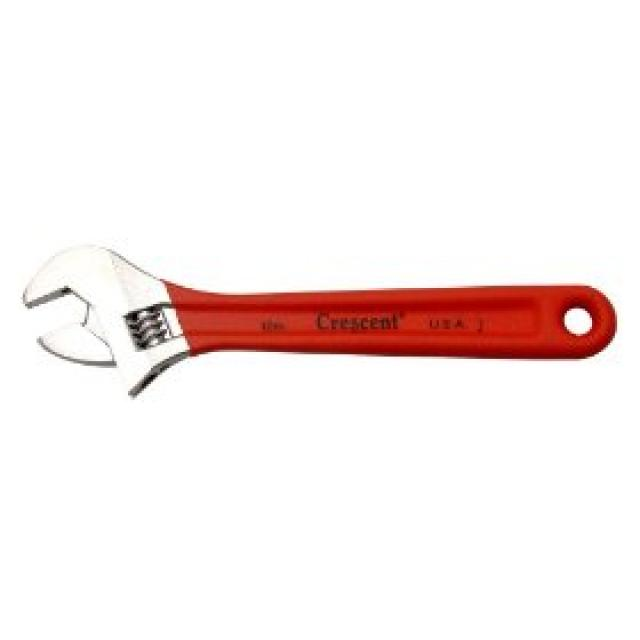wrench: (5, 217, 640, 420)
